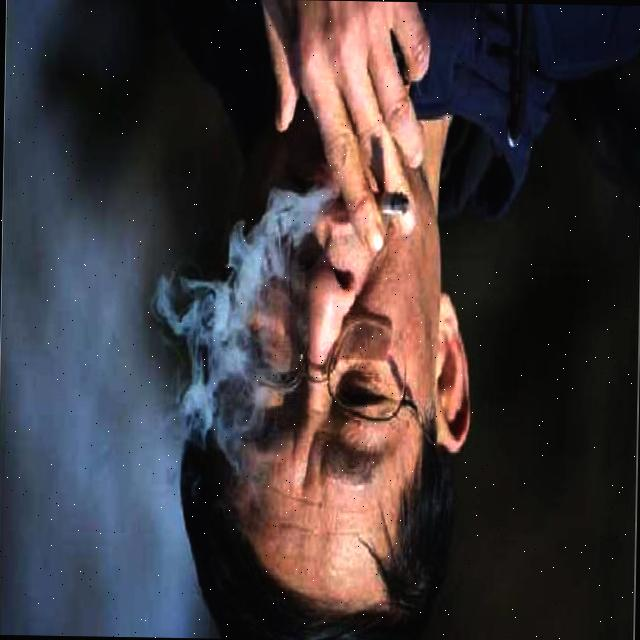smoke: (166, 166, 330, 426)
